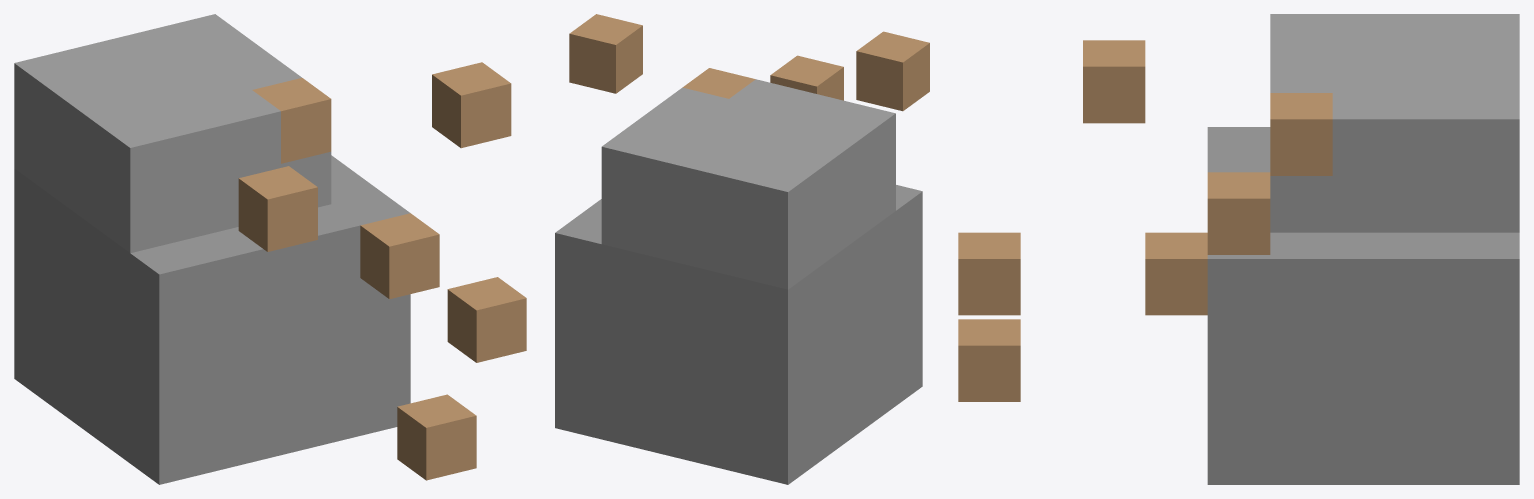
Rendered from veta_cobre_04.glb.
The picture shows the model from 3 angles, left to right: view 1: azimuth 30°, elevation 25°; view 2: azimuth 150°, elevation 25°; view 3: azimuth 270°, elevation 25°; orthographic projection. The views are drawn at different scales.
Parts seen in each view (by area): view 1: veta_cobre_04; view 2: veta_cobre_04; view 3: veta_cobre_04.
Boxes of the visible parts, x1,y1,x2,y2 form: veta_cobre_04: (14,14,526,484); veta_cobre_04: (555,14,929,484); veta_cobre_04: (958,14,1519,484).
Bounding box in the file's own units: 0.7 × 0.6 × 0.9.
